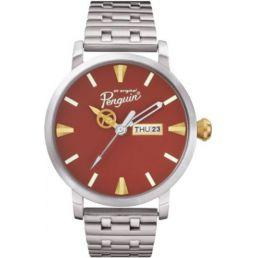watch: (42, 35, 214, 232)
